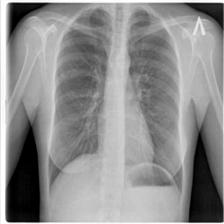tuberculosis: (41, 3, 190, 200)
